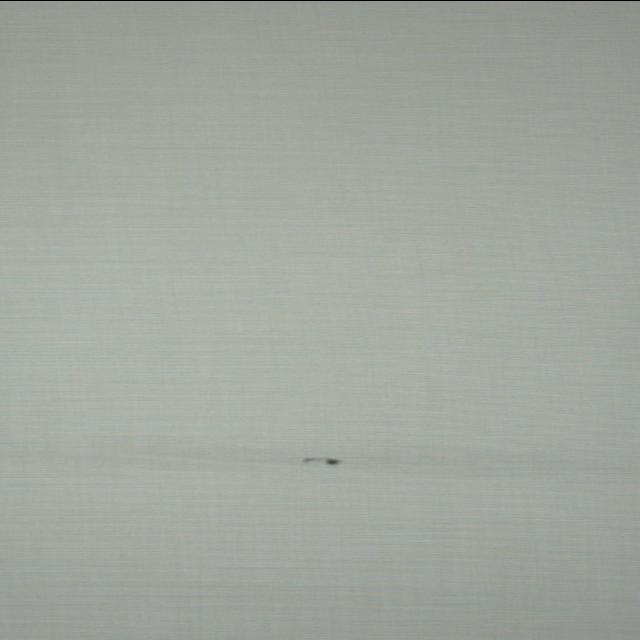dirty: (299, 455, 342, 465)
